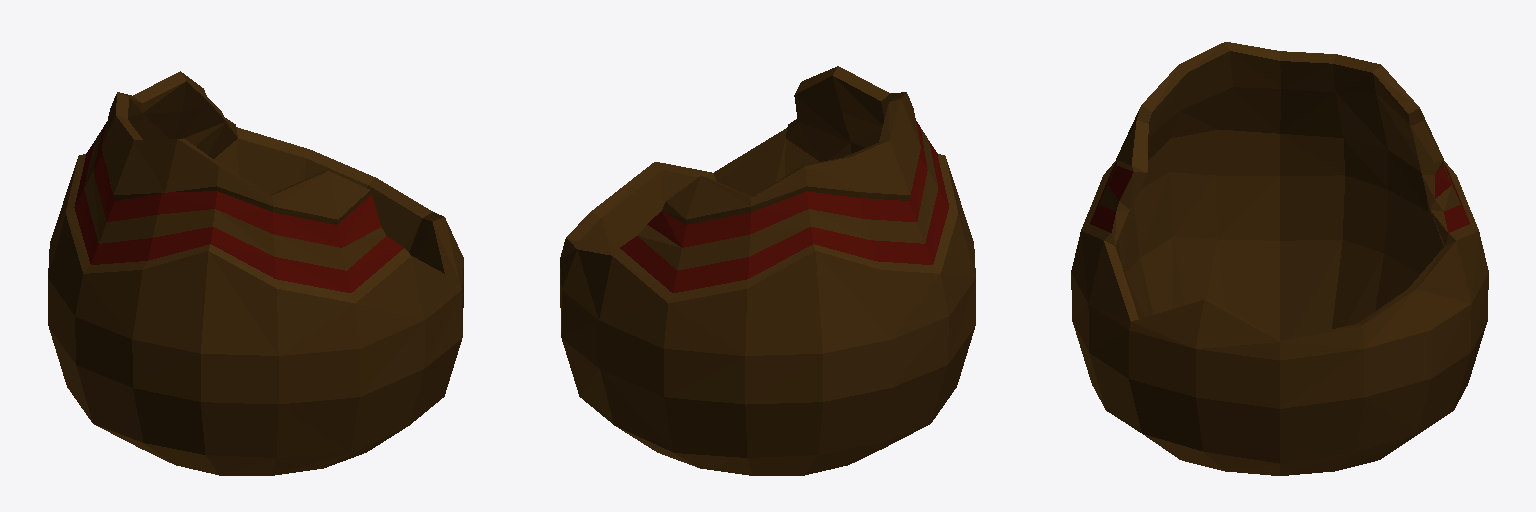
File: Pot1_Broken.obj
The picture shows the model from 3 angles: view 1: azimuth 30°, elevation 25°; view 2: azimuth 150°, elevation 25°; view 3: azimuth 270°, elevation 25°; orthographic projection.
Parts seen in each view (by area): view 1: Pot1_Broken_Cube.108; view 2: Pot1_Broken_Cube.108; view 3: Pot1_Broken_Cube.108.
Boxes of the visible parts, x1=… form: Pot1_Broken_Cube.108: x1=48, y1=71, x2=463, y2=475; Pot1_Broken_Cube.108: x1=560, y1=66, x2=975, y2=475; Pot1_Broken_Cube.108: x1=1071, y1=42, x2=1488, y2=475.
Bounding box in the file's own units: 0.7684 × 0.6608 × 0.7683.